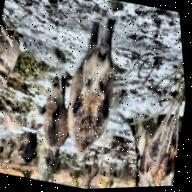boar: (49, 11, 135, 162)
